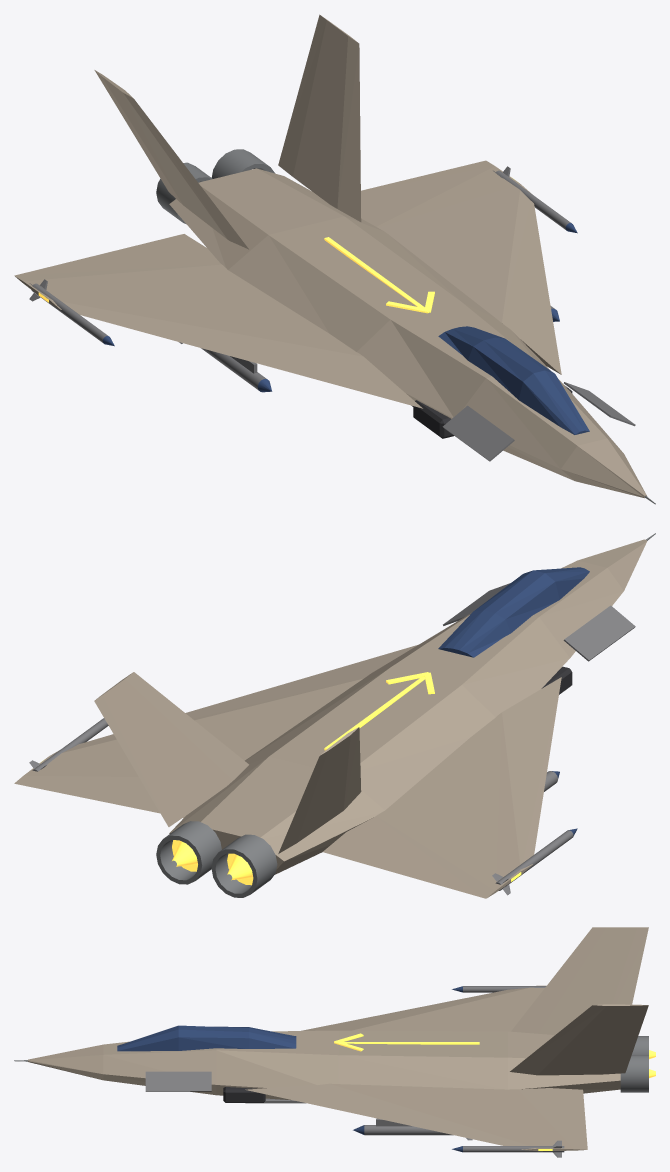
Rendered from jet_red.glb.
3 views of the same model, one above another, from view 1: azimuth 30°, elevation 25°; view 2: azimuth 150°, elevation 25°; view 3: azimuth 270°, elevation 25° (orthographic). The views are drawn at different scales.
Parts seen in each view (by area): view 1: body; view 2: body; view 3: body.
Boxes of the visible parts, x1=… form: body: x1=14, y1=14, x2=655, y2=504; body: x1=14, y1=533, x2=655, y2=898; body: x1=14, y1=927, x2=655, y2=1157.
Bounding box in the file's own units: 8.31 × 2.89 × 13.65.
